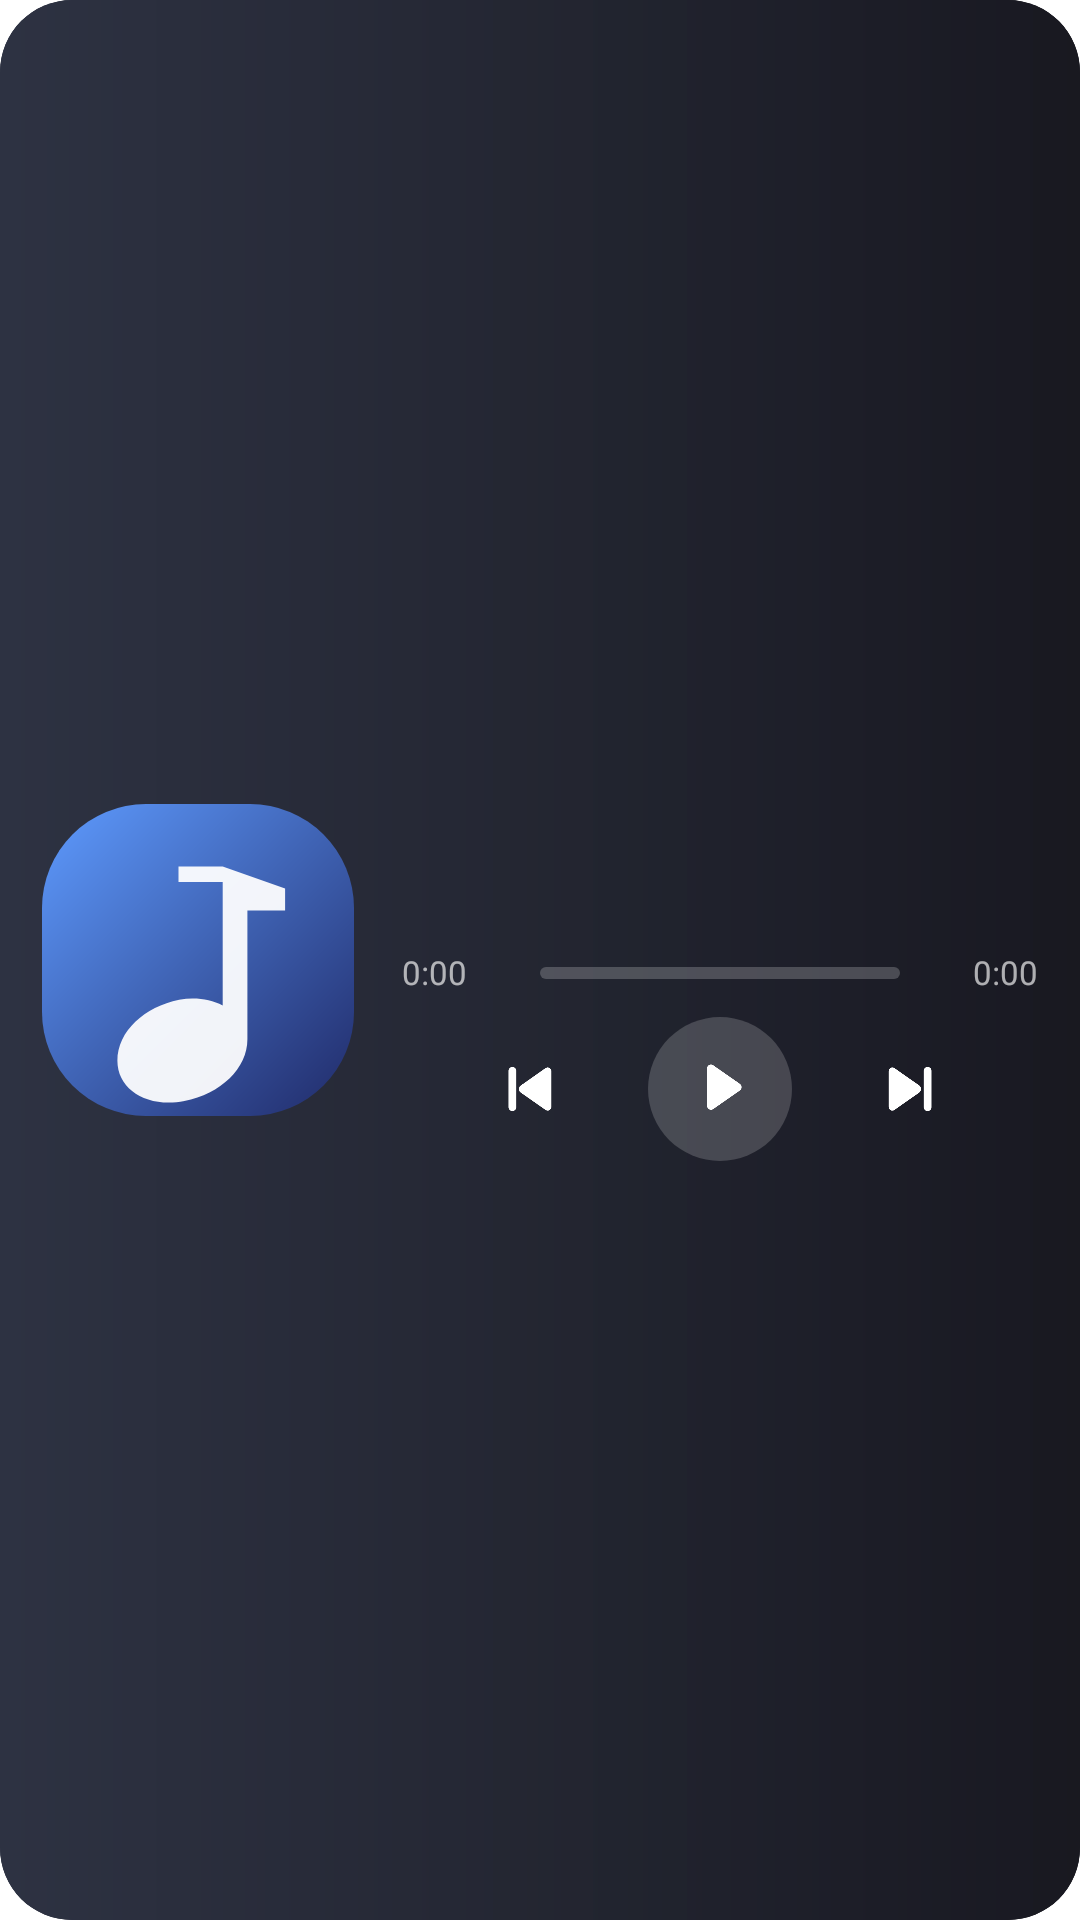

Locate icon controls on the screen. Image size 1080px x 1920px, boxes as {"x1": x1, "y1": y1, "x2": x2, "y2": y2}.
上一首: {"x1": 508, "y1": 1067, "x2": 552, "y2": 1111}
下一首: {"x1": 888, "y1": 1067, "x2": 932, "y2": 1111}
播放: {"x1": 648, "y1": 1017, "x2": 792, "y2": 1161}
